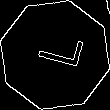L_W: (27, 33, 83, 77)
